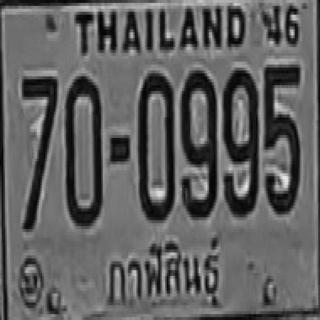N00: (64, 73, 101, 226), (136, 70, 174, 217)
N05: (263, 62, 298, 211)
N07: (20, 74, 56, 229)
N09: (180, 68, 216, 217), (222, 68, 258, 214)
P15: (100, 235, 230, 308)
